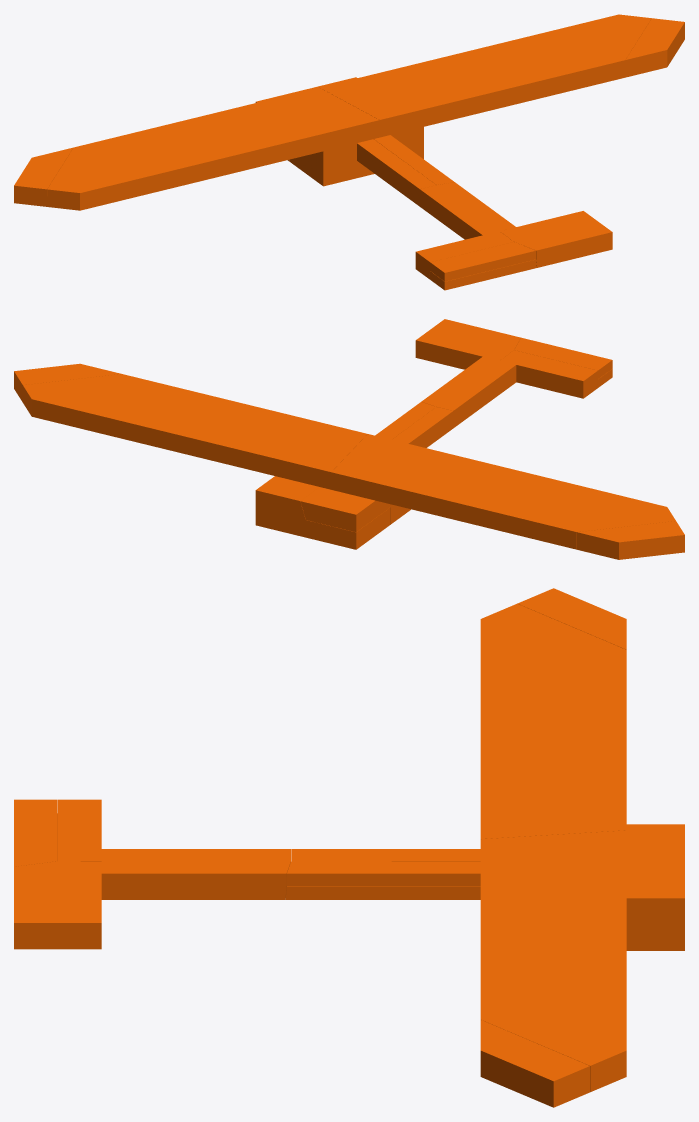
File: WrightBFlyerOrangeDebris.dae
The picture shows the model from 3 angles, top to bottom: view 1: azimuth 30°, elevation 25°; view 2: azimuth 150°, elevation 25°; view 3: azimuth 270°, elevation 25°; orthographic projection. The views are drawn at different scales.
Parts seen in each view (by area): view 1: Cube.008_cell.001, Cube.008_cell, Cube.011_cell.001, Cube.010_cell, Cube.009_cell.001, Cube.008_cell.003, Cube.011_cell, Cube.010_cell.002, Cube.008_cell.002, Cube.011_cell.002, Cube.010_cell.001, Cube.011_cell.003; view 2: Cube.008_cell, Cube.008_cell.001, Cube.011_cell.001, Cube.010_cell, Cube.008_cell.002, Cube.011_cell.002, Cube.009_cell.002, Cube.009_cell, Cube.009_cell.003, Cube.008_cell.003, Cube.011_cell, Cube.010_cell.002 (+1 smaller); view 3: Cube.008_cell, Cube.008_cell.001, Cube.010_cell, Cube.011_cell.001, Cube.008_cell.003, Cube.009_cell.002, Cube.010_cell.001, Cube.008_cell.002, Cube.011_cell, Cube.011_cell.002, Cube.010_cell.003, Cube.009_cell (+1 smaller).
Boxes of the visible parts, left/top/right/bottom form: Cube.008_cell.001: left=47, top=87, right=379, bottom=210; Cube.008_cell: left=319, top=14, right=651, bottom=137; Cube.011_cell.001: left=500, top=211, right=612, bottom=267; Cube.010_cell: left=420, top=182, right=515, bottom=239; Cube.009_cell.001: left=289, top=127, right=423, bottom=186; Cube.008_cell.003: left=625, top=18, right=684, bottom=77; Cube.011_cell: left=430, top=242, right=535, bottom=281; Cube.010_cell.002: left=357, top=139, right=436, bottom=206; Cube.008_cell.002: left=14, top=147, right=73, bottom=206; Cube.011_cell.002: left=415, top=231, right=513, bottom=278; Cube.010_cell.001: left=374, top=135, right=454, bottom=184; Cube.011_cell.003: left=428, top=259, right=536, bottom=290; Cube.008_cell: left=23, top=374, right=367, bottom=489; Cube.008_cell.001: left=331, top=434, right=675, bottom=549; Cube.011_cell.001: left=415, top=319, right=520, bottom=369; Cube.010_cell: left=421, top=356, right=516, bottom=428; Cube.008_cell.002: left=577, top=521, right=684, bottom=559; Cube.011_cell.002: left=500, top=350, right=597, bottom=398; Cube.009_cell.002: left=255, top=476, right=319, bottom=537; Cube.009_cell: left=300, top=487, right=390, bottom=531; Cube.009_cell.003: left=306, top=508, right=389, bottom=549; Cube.008_cell.003: left=14, top=363, right=121, bottom=402; Cube.011_cell: left=514, top=337, right=612, bottom=378; Cube.010_cell.002: left=392, top=407, right=453, bottom=447; Cube.008_cell: left=480, top=830, right=626, bottom=1092; Cube.008_cell.001: left=480, top=603, right=626, bottom=839; Cube.010_cell: left=101, top=849, right=290, bottom=899; Cube.011_cell.001: left=14, top=861, right=101, bottom=949; Cube.008_cell.003: left=480, top=1020, right=589, bottom=1107; Cube.009_cell.002: left=626, top=865, right=684, bottom=950; Cube.010_cell.001: left=287, top=861, right=480, bottom=886; Cube.008_cell.002: left=517, top=588, right=626, bottom=649; Cube.011_cell: left=14, top=799, right=57, bottom=866; Cube.011_cell.002: left=58, top=799, right=101, bottom=861; Cube.010_cell.003: left=285, top=886, right=480, bottom=899; Cube.009_cell: left=626, top=824, right=684, bottom=865.
Bounding box in the file's own units: 8 × 4.6 × 0.6.
